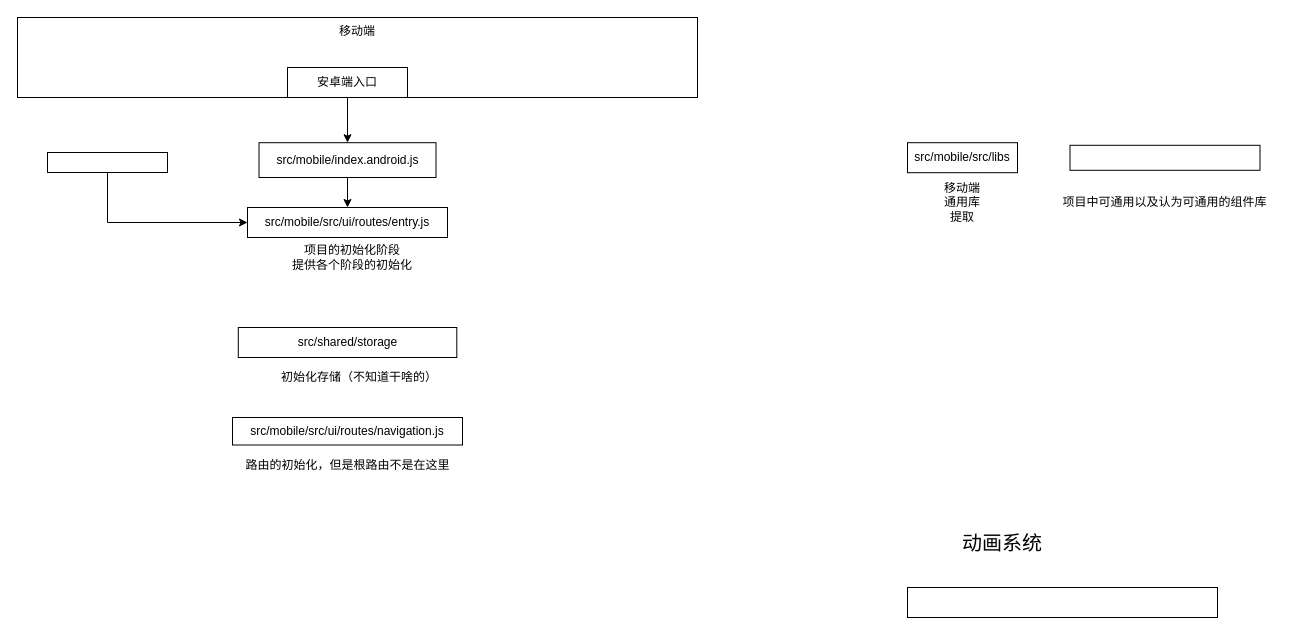
The diagram is 1295 pixels wide and 635 high, and some of its shapes have lost their labels. Each missing label, with the centre of its shape:
src/mobile/index.js: point 107,162
src/mobile/src/ui/components: point 1164,157
src/mobile/src/ui/components/AnimatedComponent.js: point 1062,602
